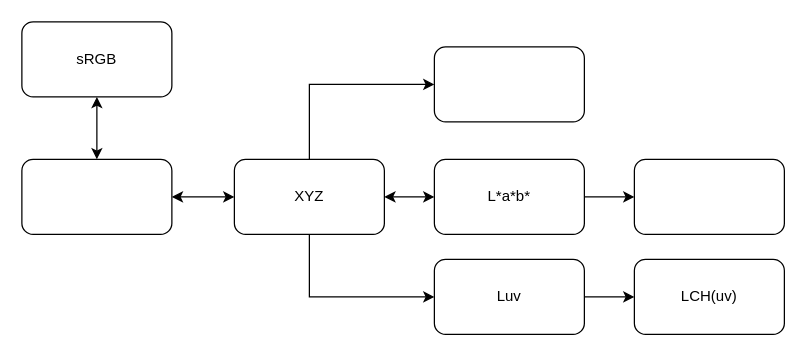
Image size: 806x356. Some labels were removed from this diagram. Here are the shapes that lost their labels. From the top down, the centre of each, then its label:
At pixel 508 84: "xyY".
At pixel 96 196: "RGB".
At pixel 708 196: "LCH(ab)".
